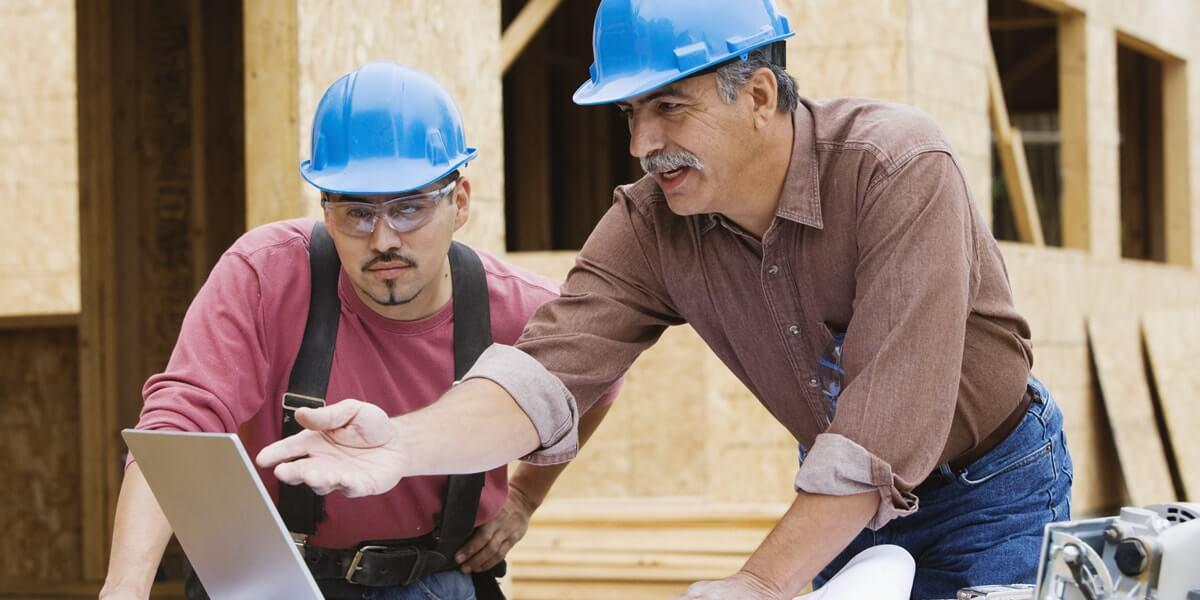helmet: (570, 1, 796, 111), (300, 67, 480, 197)
